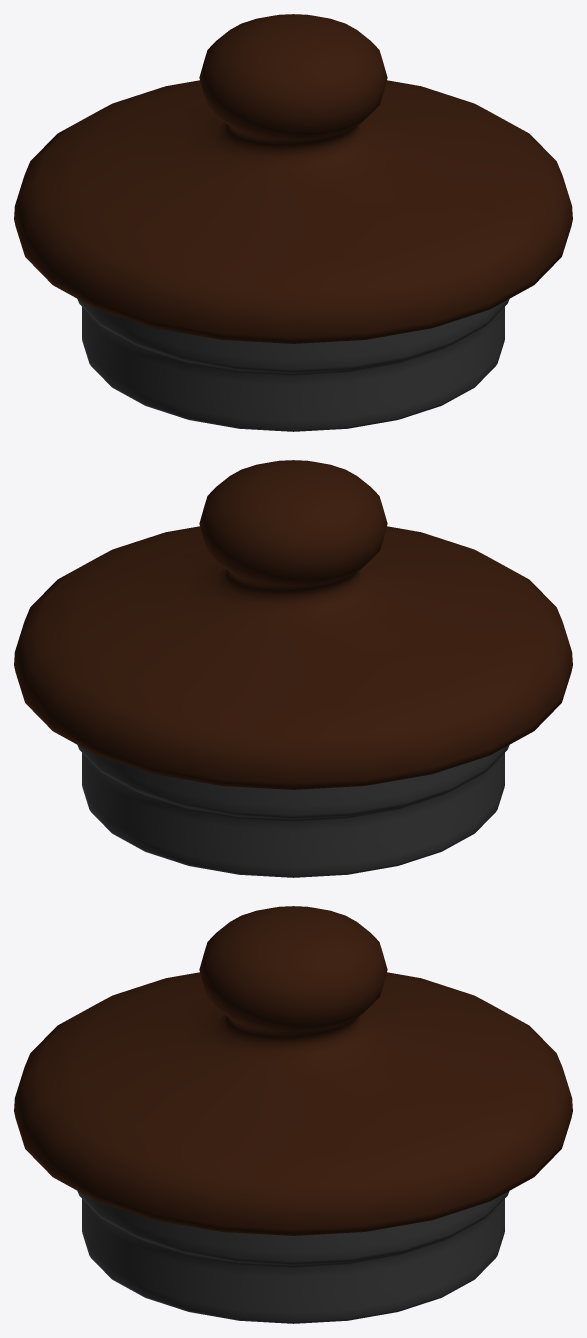
Rendered from VP_Kitchen_Jar_4_Lid.FBX.
The picture shows the model from 3 angles, top to bottom: view 1: azimuth 30°, elevation 25°; view 2: azimuth 150°, elevation 25°; view 3: azimuth 270°, elevation 25°; orthographic projection.
Visible parts, largest first — view 1: VP_Kitchen_Jar_4_Lid; view 2: VP_Kitchen_Jar_4_Lid; view 3: VP_Kitchen_Jar_4_Lid.
Part boxes in pixels (left/top/right/bottom): VP_Kitchen_Jar_4_Lid: left=14, top=14, right=572, bottom=431; VP_Kitchen_Jar_4_Lid: left=14, top=460, right=572, bottom=877; VP_Kitchen_Jar_4_Lid: left=14, top=906, right=572, bottom=1323.
Size of what is drawn, in the model's own units: 10.85 by 10.85 by 6.75.
